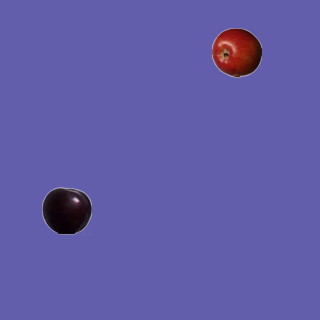Apple Braeburn: (211, 27, 261, 77)
Cherry Wax Black: (41, 185, 91, 235)
